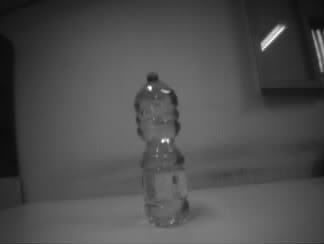Bottle: (131, 70, 191, 229)
